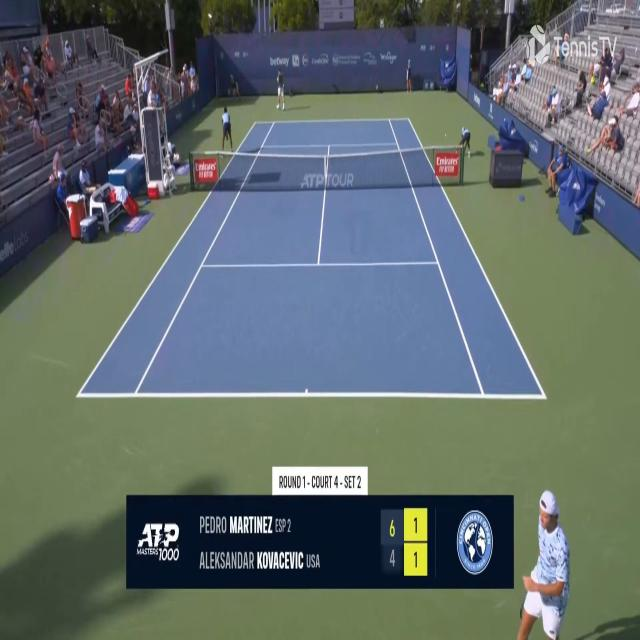tennis-player: (505, 487, 574, 640), (275, 71, 286, 112)
